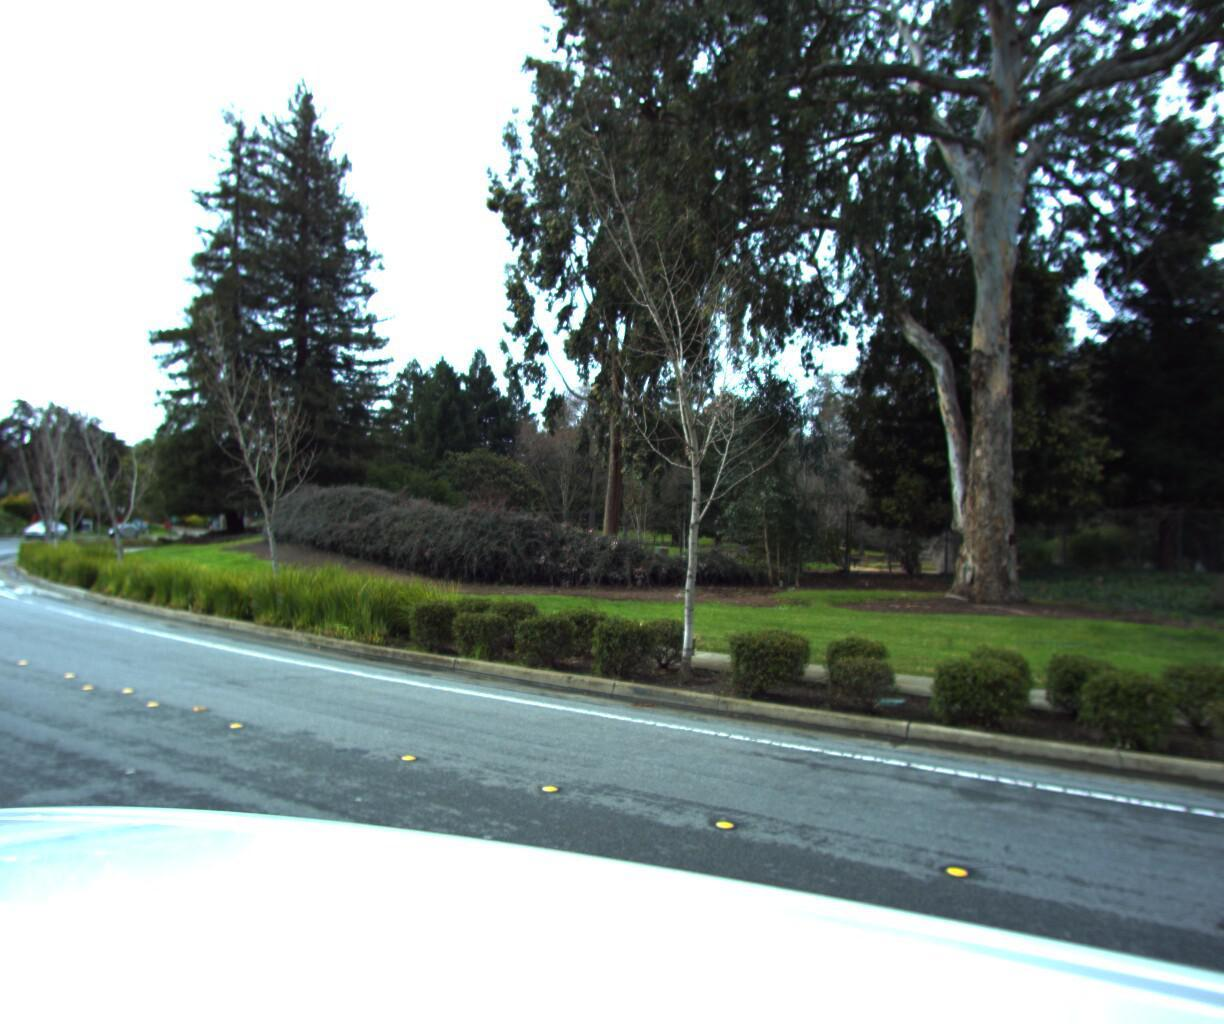car: (19, 516, 68, 540)
